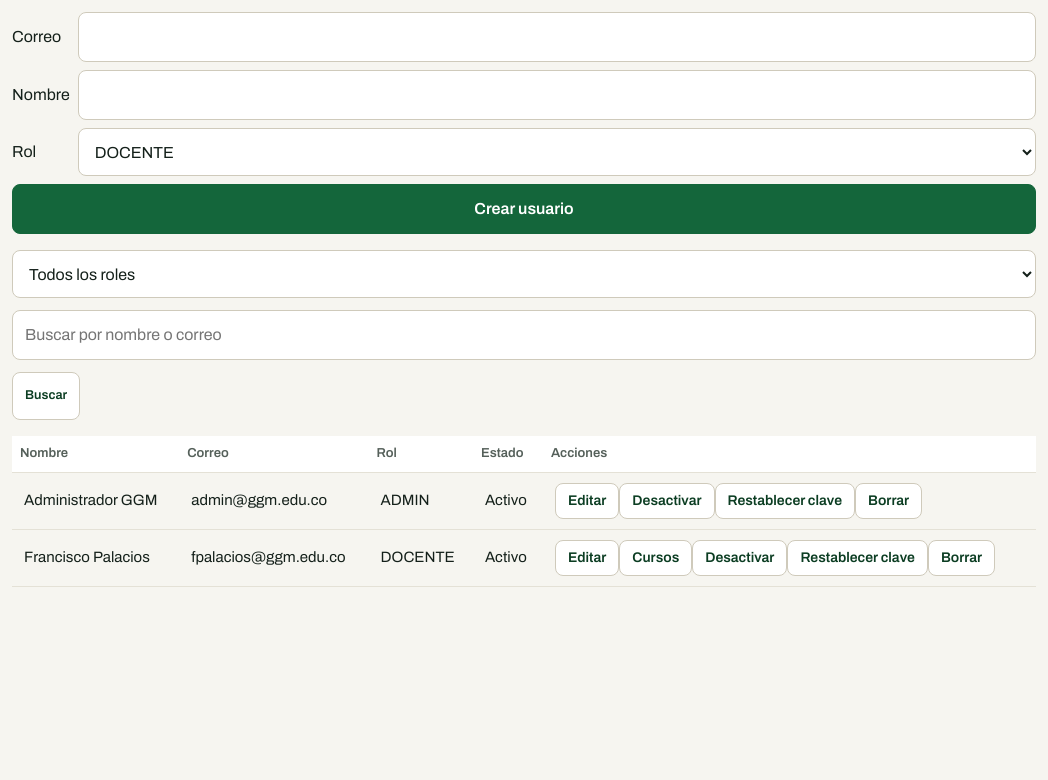
Scenario: PanelUsuarios › confirmado, borra la cuenta con DELETE y recarga la lista
The image size is (1048, 780).
Expected: the text "Francisco Palacios" is shown, [12,529,179,586]
Click the button with aria-label "borrar cuenta de francisco palacios" at (961,558), box [928,540,995,576]
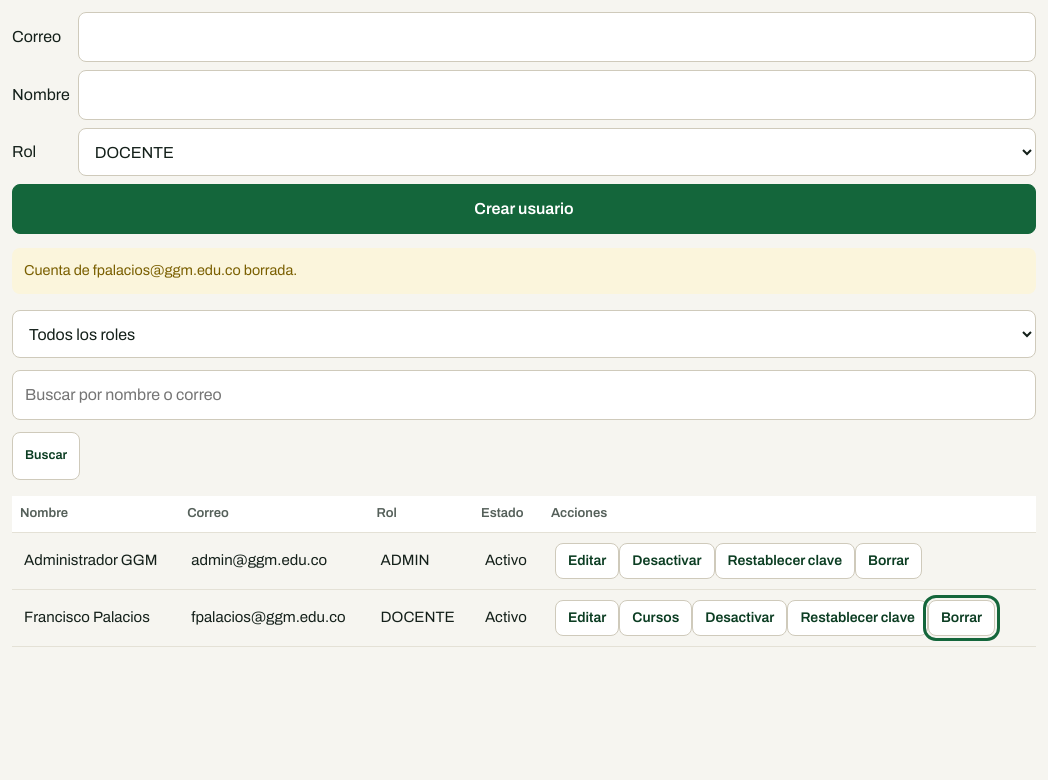
Expected: the message shows "borrada", [24,262,297,278]
